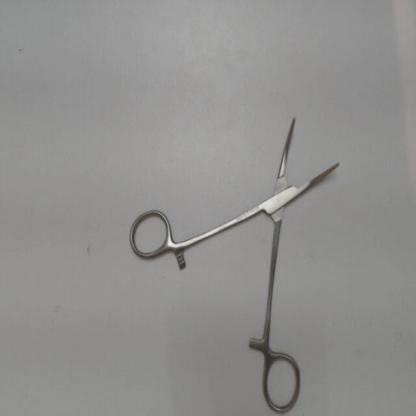Crile Artery Forceps: (124, 108, 346, 414)
